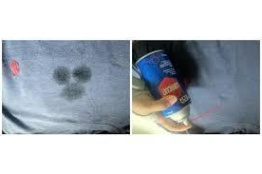oil: (51, 63, 99, 102)
